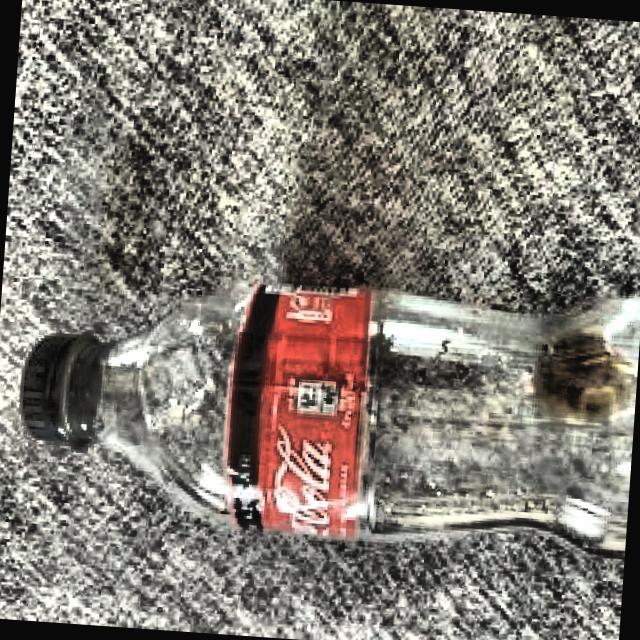plastic bottle: (11, 260, 640, 563)
